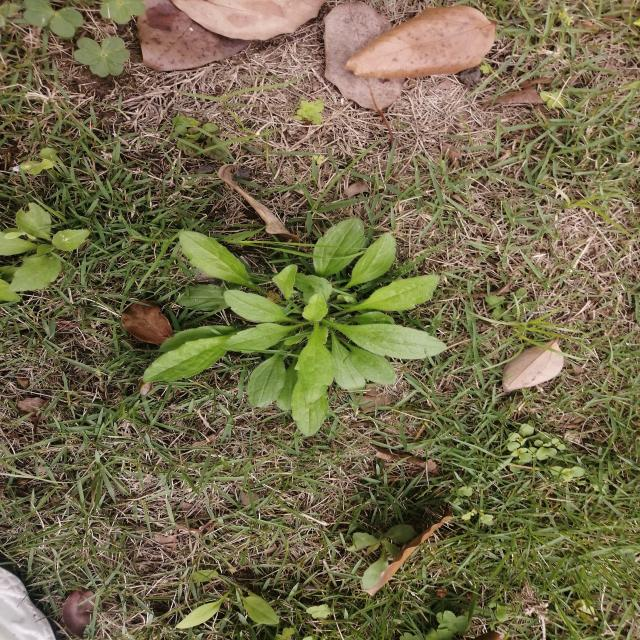horseweed: (148, 230, 442, 412)
